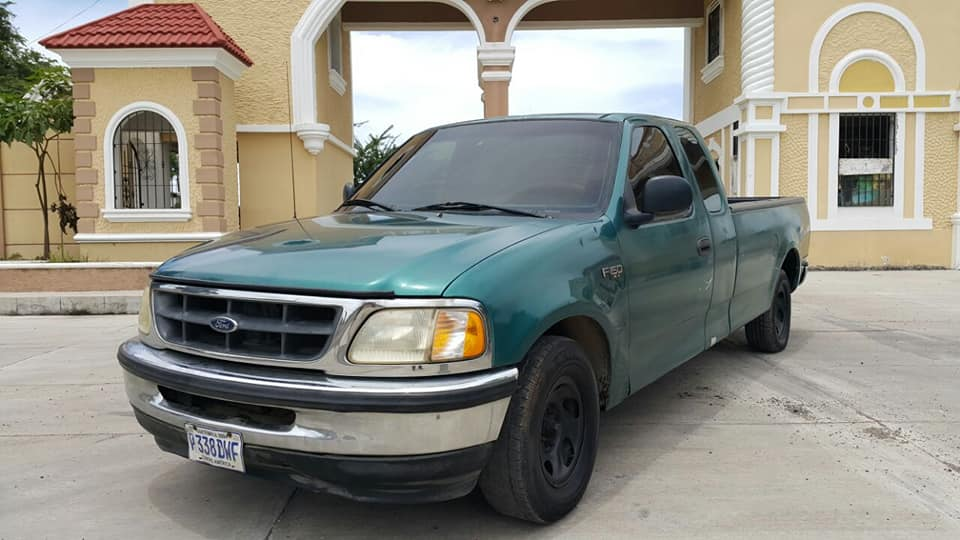pickup: (105, 113, 811, 525)
